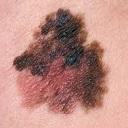Melanoma: (23, 7, 101, 107)
